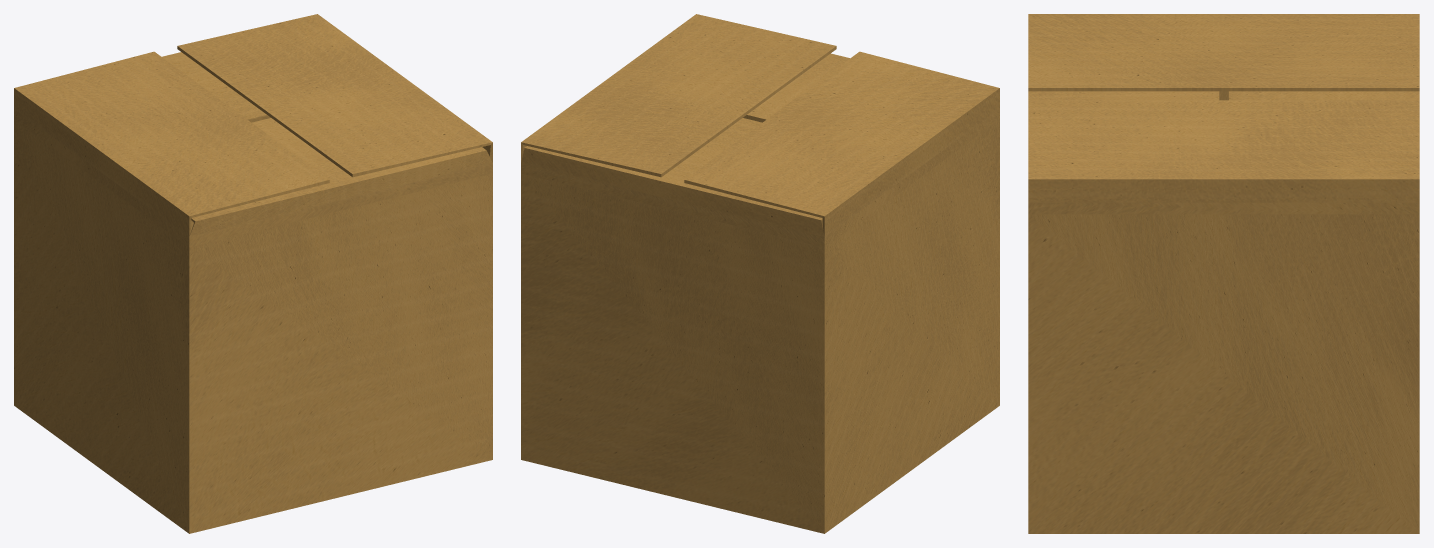
Rendered from Caixa1.fbx.
3 renders of one model, left to right at view 1: azimuth 30°, elevation 25°; view 2: azimuth 150°, elevation 25°; view 3: azimuth 270°, elevation 25°, orthographic. The views are drawn at different scales.
Visible parts, largest first — view 1: Cube; view 2: Cube; view 3: Cube.
Part boxes in pixels (<box>): Cube: <box>14,14,492,533</box>; Cube: <box>521,14,999,533</box>; Cube: <box>1028,14,1419,533</box>.
Bounding box in the file's own units: 2 × 2 × 2.01.
Materials: 1 (1 with a texture image).
